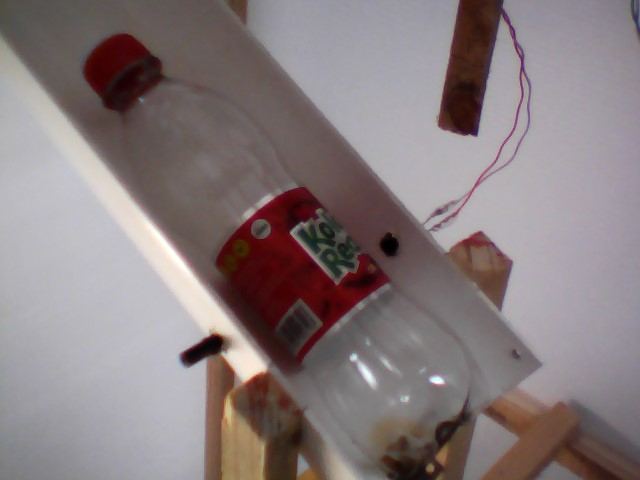plastico: (70, 27, 499, 480)
